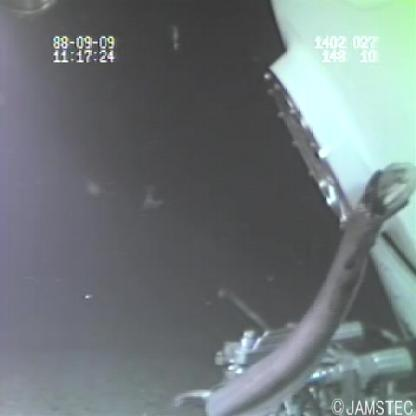Bio: (171, 162, 416, 415)
Rov: (262, 2, 416, 238), (170, 315, 414, 415)
